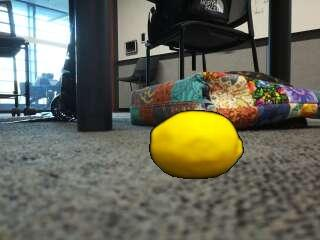lemon: (151, 111, 243, 179)
